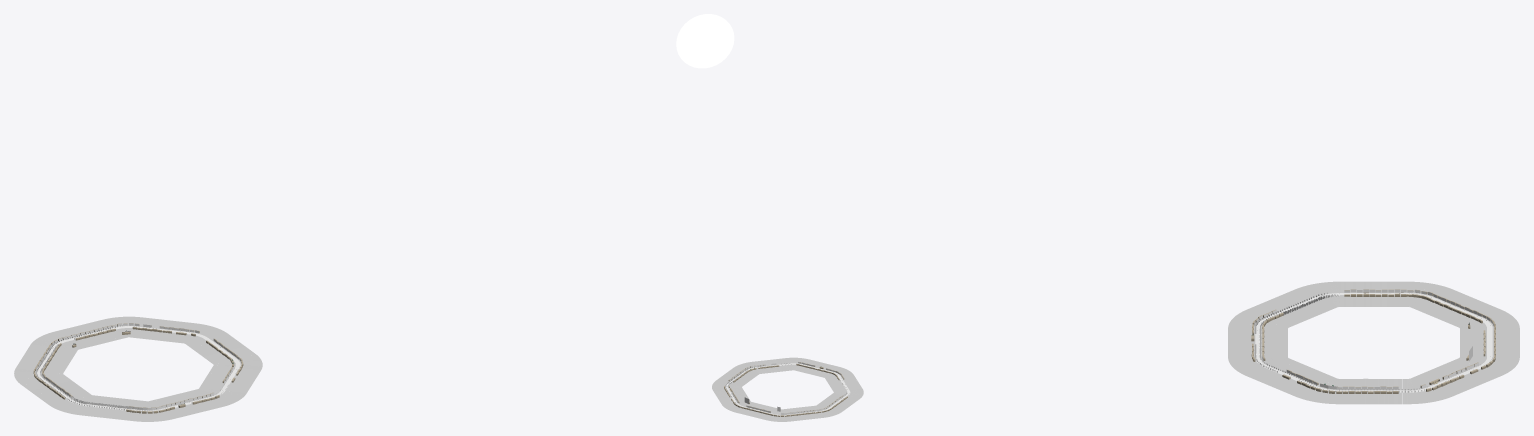
File: vienna.glb
3 views of the same model, side by side, from view 1: azimuth 30°, elevation 25°; view 2: azimuth 150°, elevation 25°; view 3: azimuth 270°, elevation 25° (orthographic). The views are drawn at different scales.
Parts seen in each view (by area): view 1: no part large enough to name; view 2: Sun, RingLawns_043, RingLawns_014, RingLawns_053; view 3: RingLawns_014, RingLawns_023, RingLawns_043, RingLawns_028, RingLawns_053, RingLawns_013, RingLawns_015.
Part boxes in pixels (bbox=[...]): Sun: bbox=[676, 14, 734, 68]; RingLawns_043: bbox=[825, 371, 856, 383]; RingLawns_014: bbox=[782, 407, 804, 421]; RingLawns_053: bbox=[714, 389, 746, 399]; RingLawns_014: bbox=[1438, 301, 1506, 327]; RingLawns_023: bbox=[1228, 337, 1287, 350]; RingLawns_043: bbox=[1236, 302, 1305, 327]; RingLawns_028: bbox=[1342, 378, 1373, 404]; RingLawns_053: bbox=[1416, 366, 1482, 393]; RingLawns_013: bbox=[1459, 312, 1519, 332]; RingLawns_015: bbox=[1419, 293, 1479, 318].
Size of the model in its own units: 4444 by 3840 by 4398.
